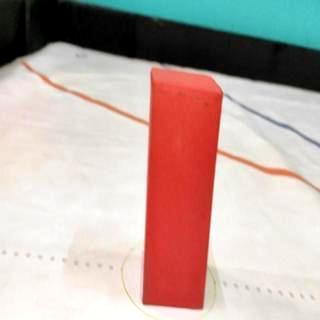redbox: (141, 66, 222, 308)
